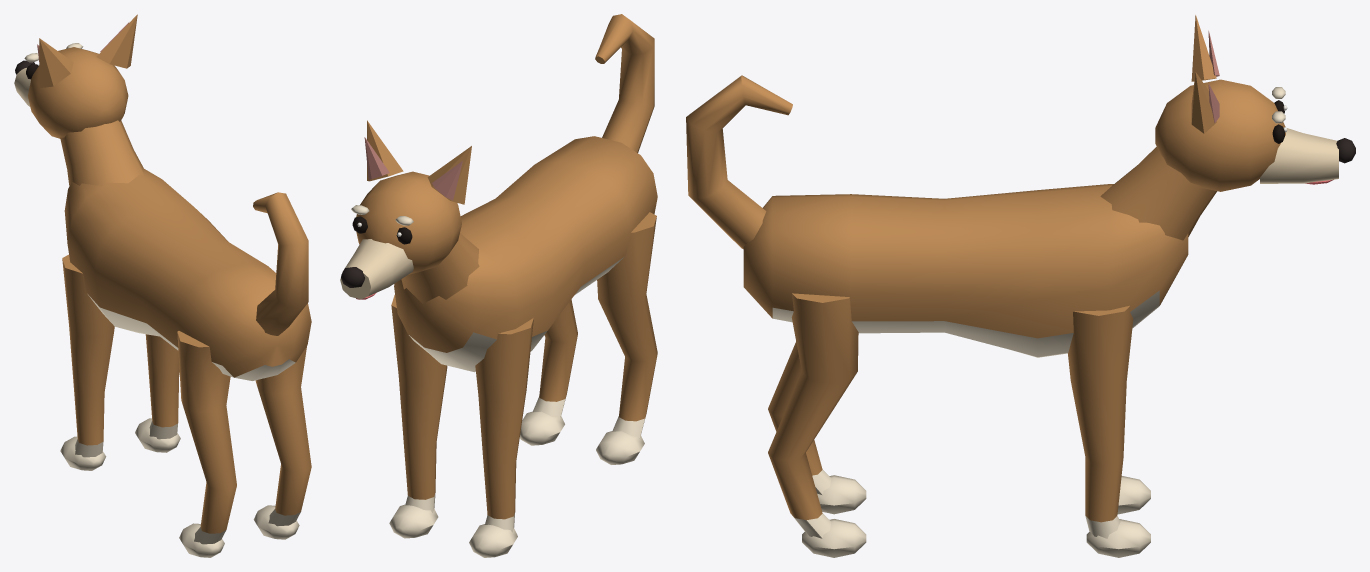
Rendered from dog.glb.
3 renders of one model, left to right at view 1: azimuth 30°, elevation 25°; view 2: azimuth 150°, elevation 25°; view 3: azimuth 270°, elevation 25°, orthographic. The views are drawn at different scales.
Visible parts, largest first — view 1: Body, Head, LegBL, LegFL, LegBR, Tail, LegFR; view 2: Body, Head, LegFL, LegBL, LegFR, Tail, LegBR; view 3: Body, Head, LegBR, LegFR, Tail, LegBL, LegFL.
Boxes of the visible parts, left/top/right/bottom form: Body: left=60, top=120, right=311, bottom=380; Head: left=14, top=14, right=137, bottom=138; LegBL: left=177, top=331, right=236, bottom=557; LegFL: left=60, top=254, right=114, bottom=470; LegBR: left=253, top=346, right=311, bottom=539; Tail: left=253, top=192, right=308, bottom=335; LegFR: left=135, top=334, right=180, bottom=452; Body: left=394, top=136, right=657, bottom=372; Head: left=340, top=120, right=471, bottom=299; LegFL: left=469, top=318, right=533, bottom=557; LegBL: left=596, top=212, right=657, bottom=464; LegFR: left=389, top=295, right=447, bottom=538; Tail: left=595, top=14, right=654, bottom=152; LegBR: left=519, top=299, right=577, bottom=445; Body: left=743, top=146, right=1216, bottom=357; Head: left=1155, top=15, right=1355, bottom=191; LegBR: left=768, top=293, right=866, bottom=557; LegFR: left=1068, top=305, right=1150, bottom=557; Tail: left=686, top=75, right=792, bottom=249; LegBL: left=768, top=341, right=866, bottom=514; LegFL: left=1085, top=458, right=1150, bottom=514.
Size of the model in its own units: 0.246 by 0.755 by 0.9343.
